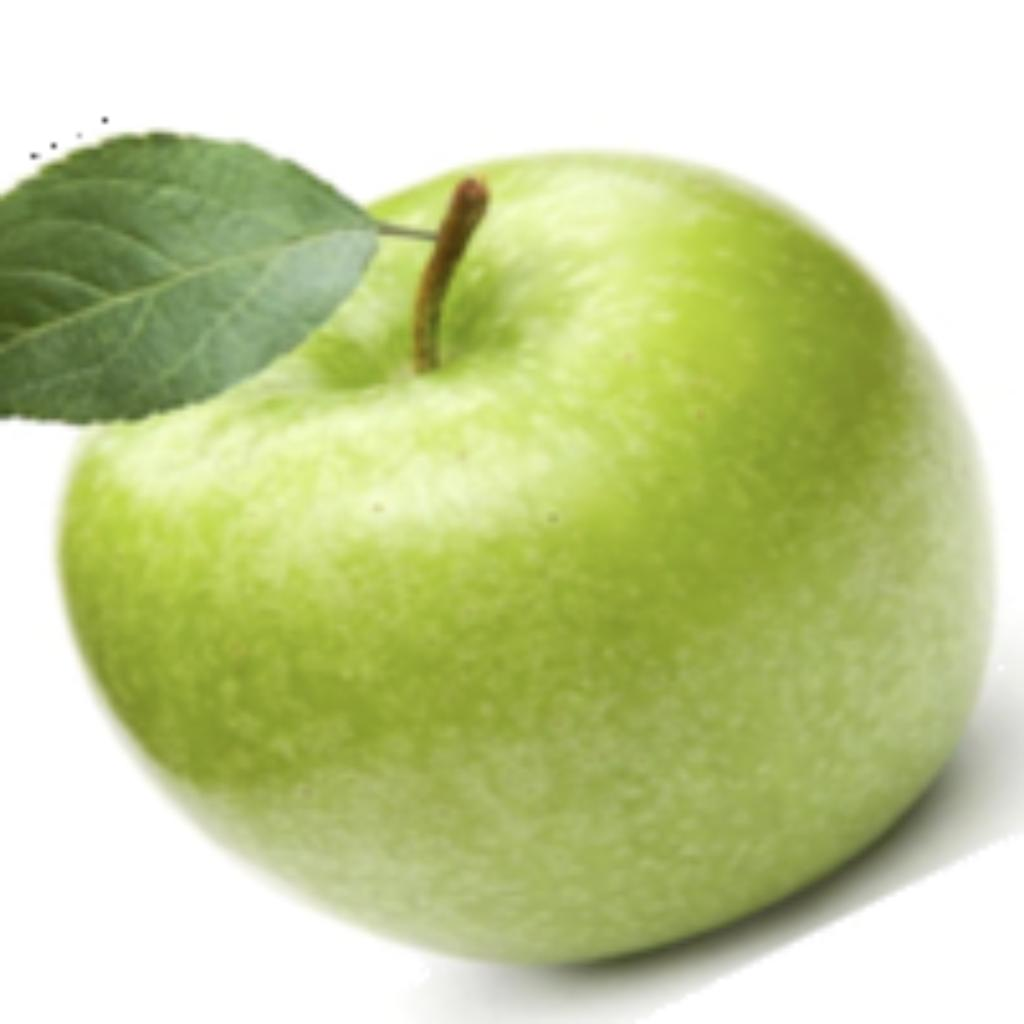apple: (0, 114, 1019, 1019)
